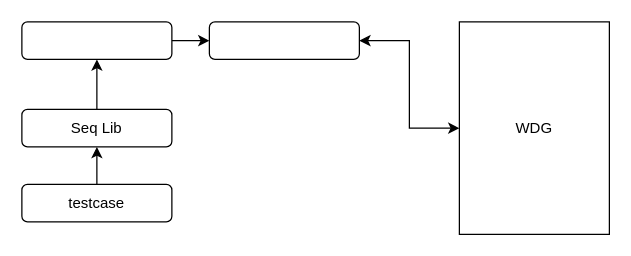
This 631x256 diagram has some shape labels left out. Each missing label, with the centre of its shape:
"APB interface （apb task）" goes at point (283, 40).
"Ral Model" goes at point (96, 40).
